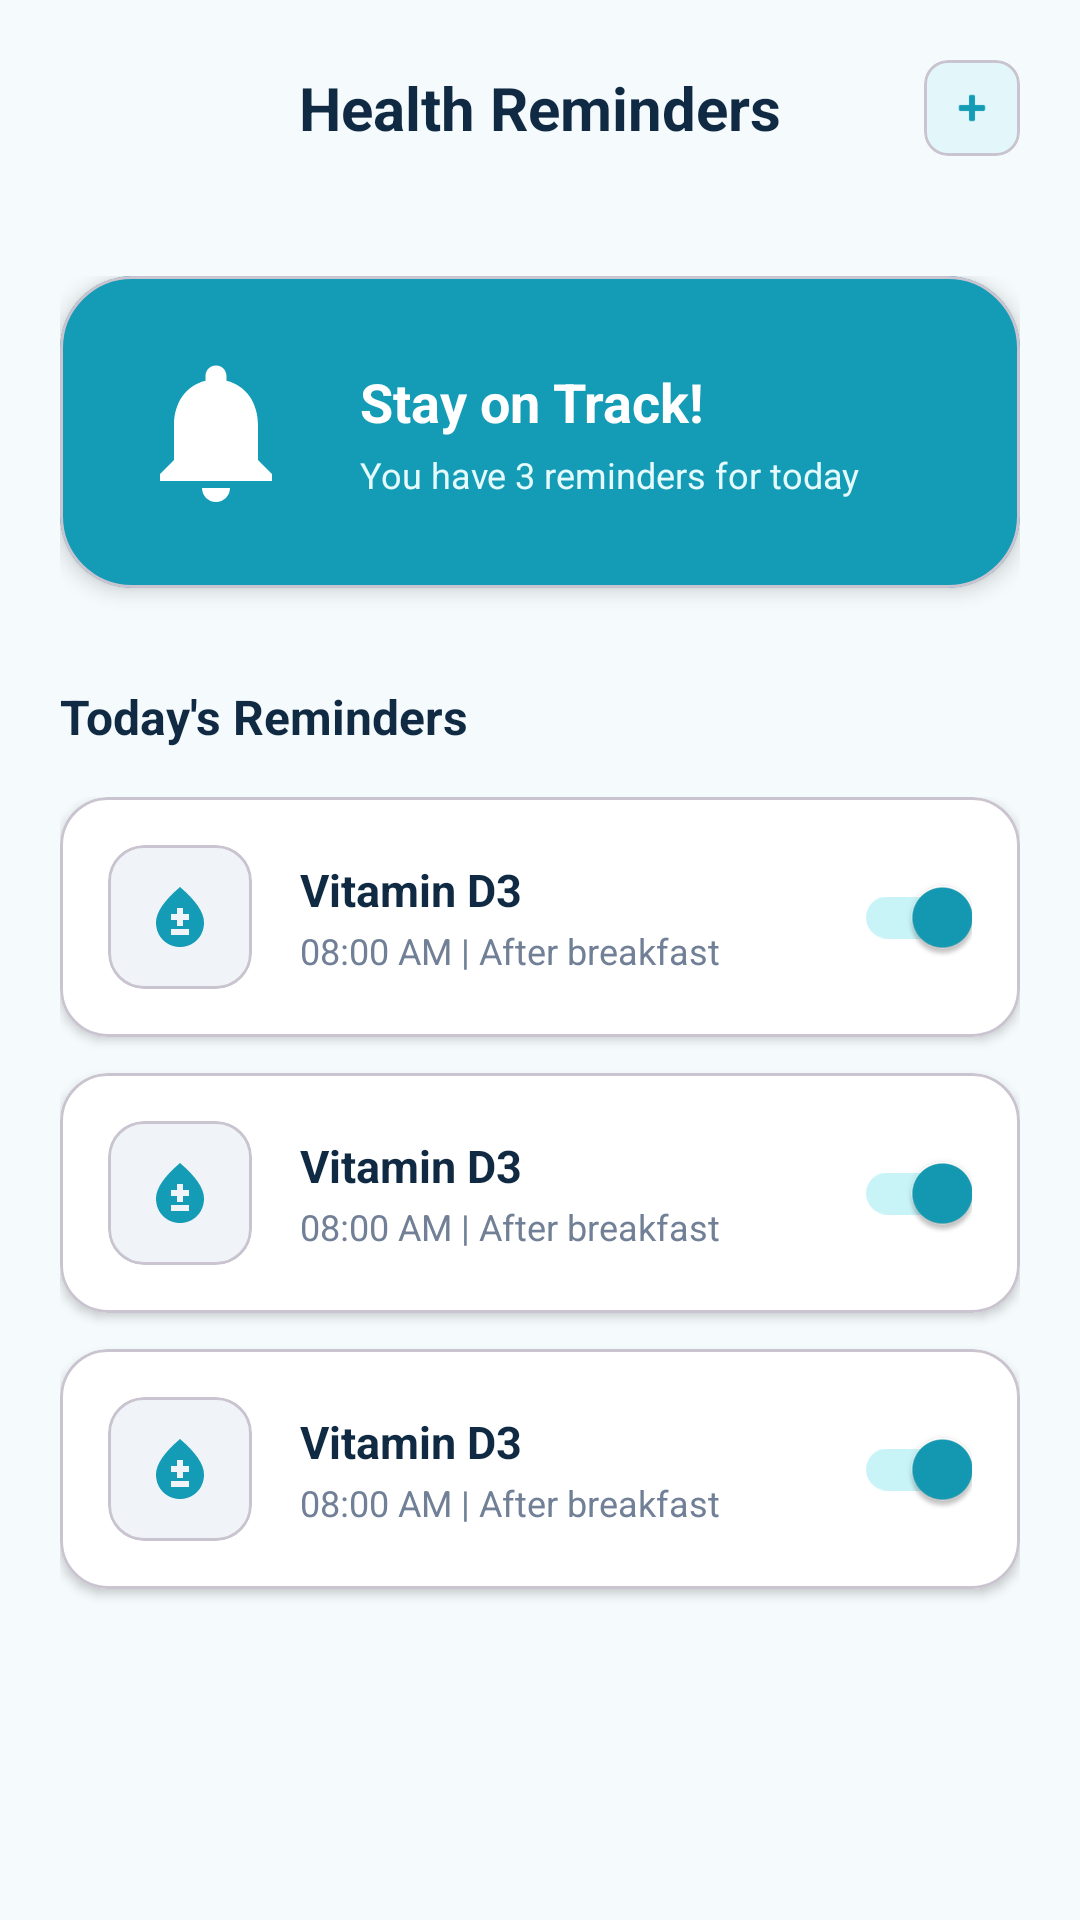

Where to tap for icons on this 1080 × 1920 app screen, as [x,y]:
Add Reminder: [972,108]
Notification Icon: [216,433]
Reminder Icon: [180,917], [180,1193], [180,1469]
